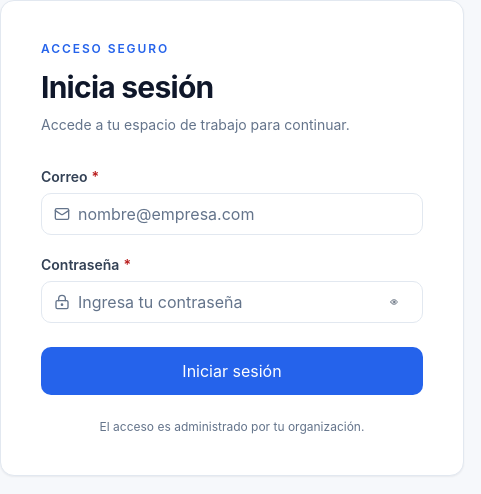
LoginForm › keeps the password value while toggling its visibility
The width and height of the screenshot is (481, 494).
Type "secret-value" into the password field labelled "Contraseña*" at (224, 302), box [78,282,370,322]
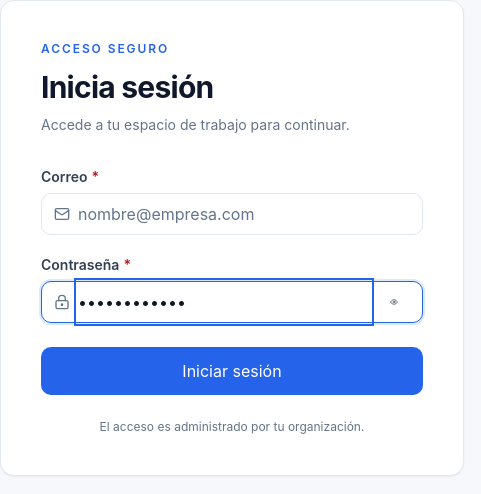
Click the button named "Mostrar contraseña" at (394, 302), box [378,286,410,318]
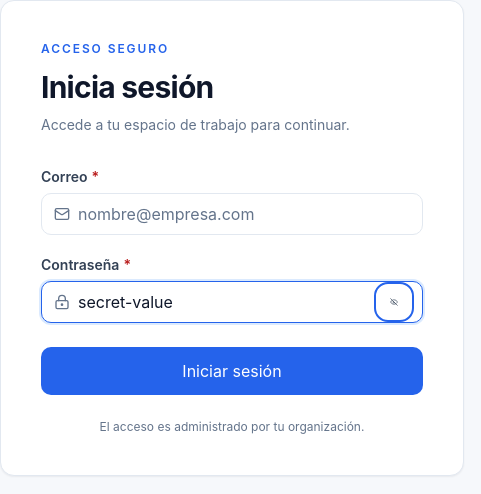
Result: the field labelled "Contraseña*" shows its text at [78,282,370,322]
Click the button named "Ocultar contraseña" at (394, 302), box [378,286,410,318]
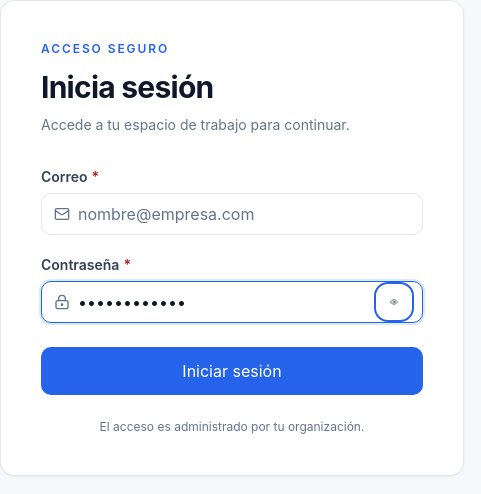
Result: the password field labelled "Contraseña*" hides its text at [78,282,370,322]
